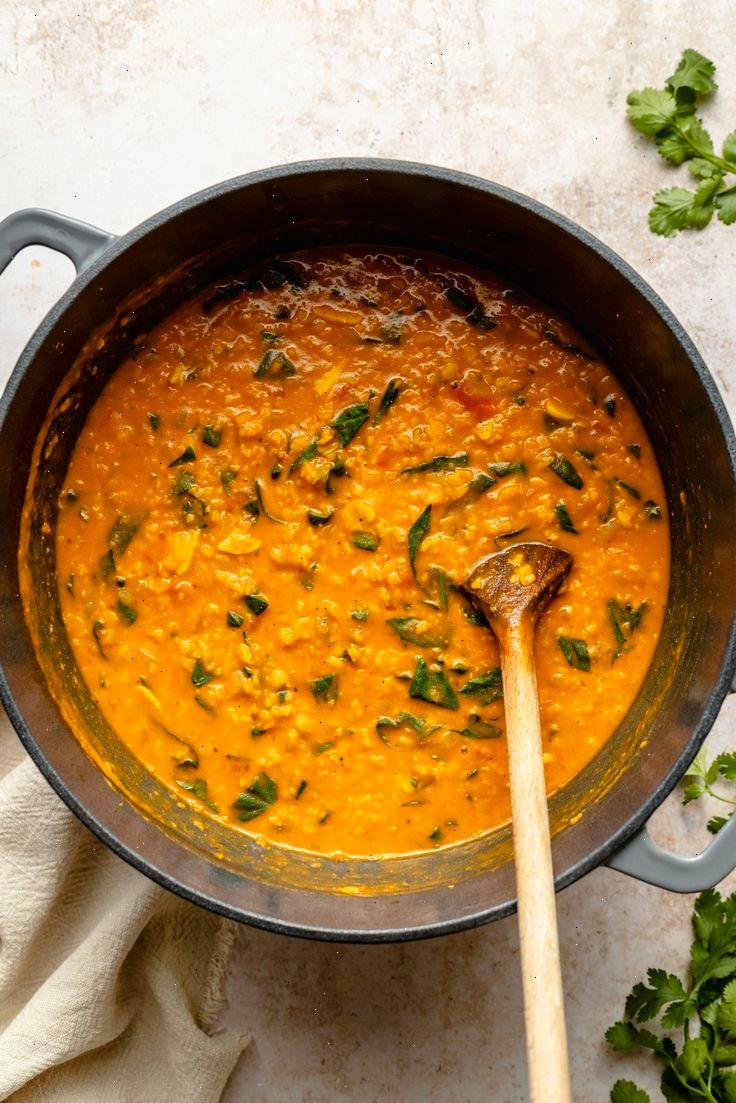daal: (68, 289, 701, 901)
